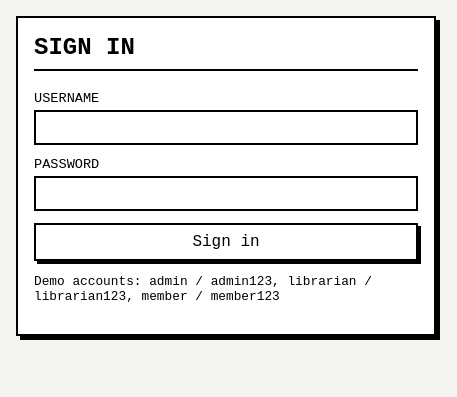
Test case: LoginPage › shows the backend error for bad credentials
Type "admin" into the field labelled "Username" at (226, 127), box x1=34 y1=110 x2=418 y2=145
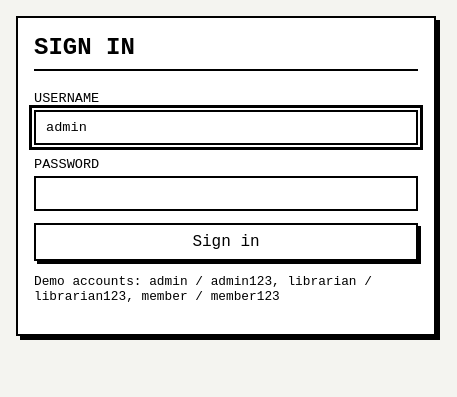
Type "wrong" into the password field labelled "Password" at (226, 193), box x1=34 y1=176 x2=418 y2=211
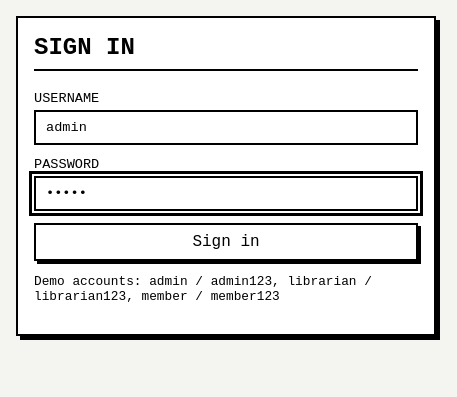
Click the button "Sign in" at (226, 242), box x1=34 y1=223 x2=418 y2=261
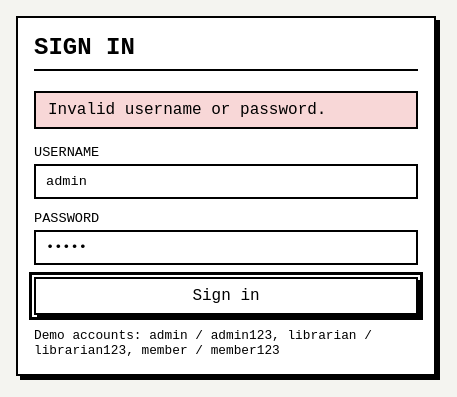
Check: the message reads "Invalid username or password.", box x1=48 y1=101 x2=326 y2=119
